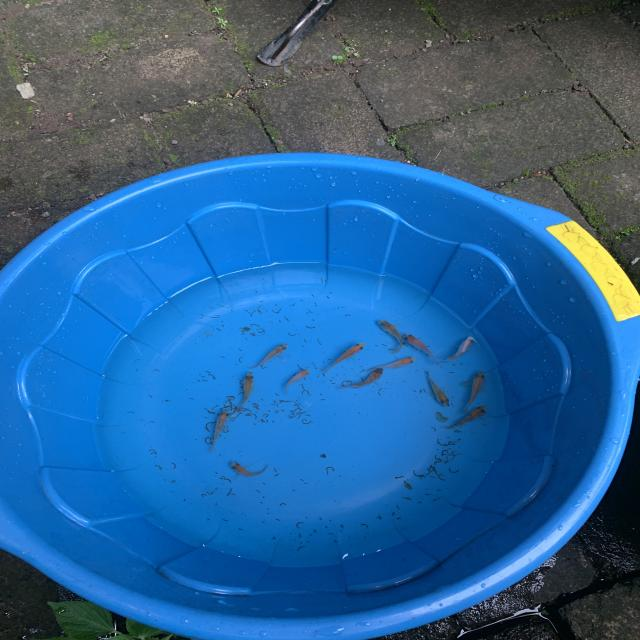nila: (322, 340, 367, 380), (460, 367, 490, 414), (418, 368, 451, 409), (334, 366, 389, 390), (246, 340, 291, 369), (401, 330, 443, 361), (208, 406, 235, 454), (372, 319, 409, 354), (364, 351, 420, 373), (438, 334, 478, 364), (234, 368, 261, 412), (447, 404, 492, 430), (284, 365, 316, 396), (228, 457, 272, 478)
